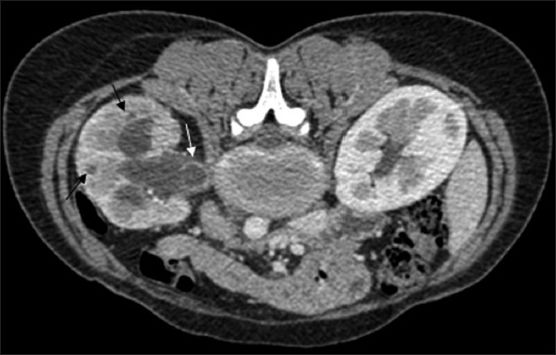anomaly: (175, 161, 216, 195)
